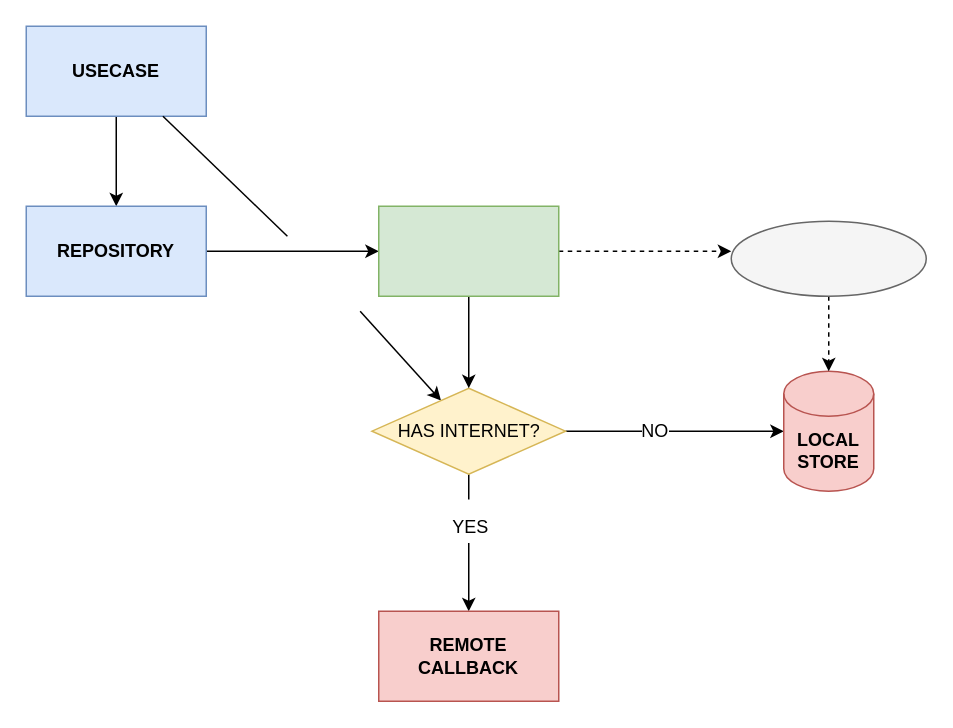
This 953x728 diagram has some shape labels left out. The shapes that lost their labels are listed below. From the top down, each one's centre as x and y in pixels, then its label:
At [468,250]: "CACHE_MANAGER".
At [828,258]: "PROCESS CACHE".
